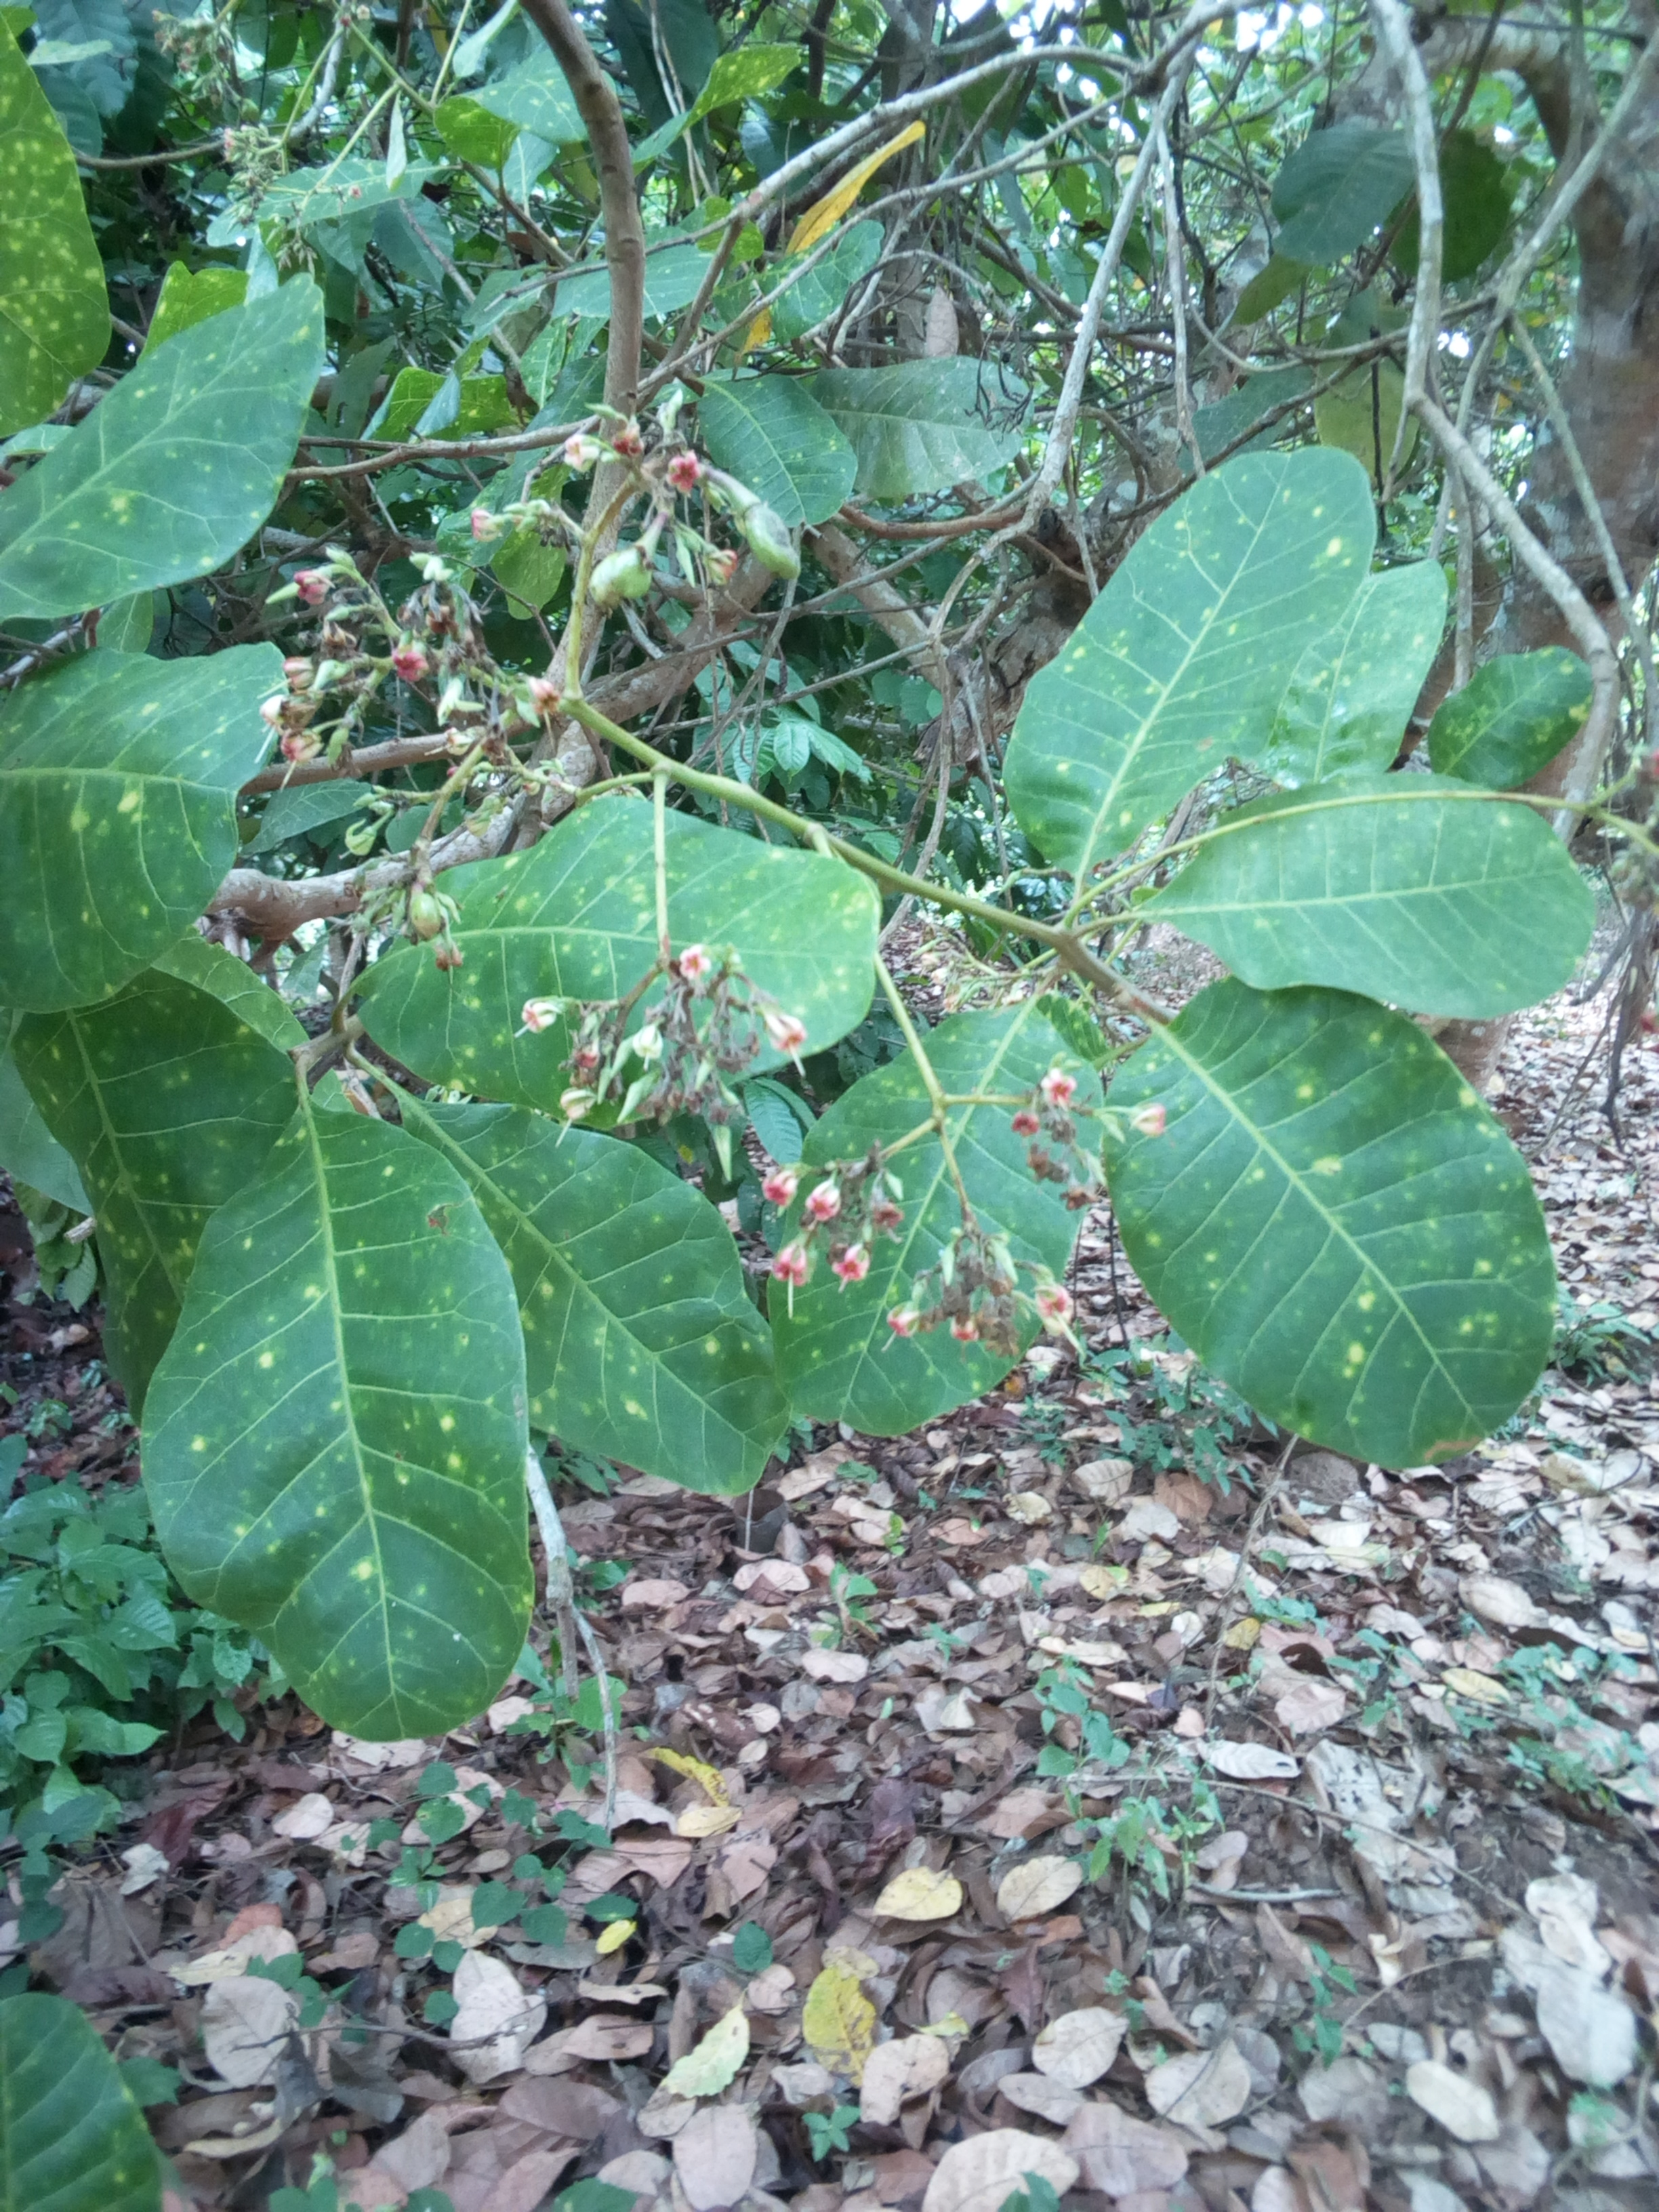Carence minérale: (138, 1103, 653, 1759), (1098, 991, 1589, 1468), (992, 435, 1392, 913), (349, 770, 911, 1106), (732, 974, 1101, 1446), (0, 256, 324, 636), (7, 632, 270, 1024), (829, 329, 1037, 526), (0, 31, 98, 432), (660, 354, 866, 536), (1239, 110, 1436, 279), (413, 70, 606, 174), (660, 28, 833, 134)
